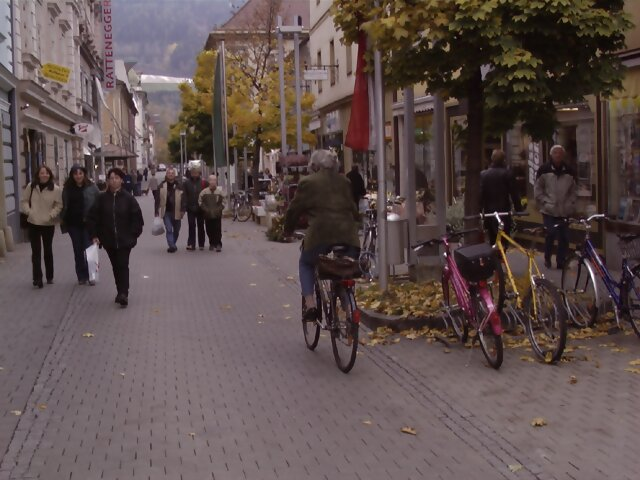person: (285, 144, 372, 326), (91, 167, 152, 303), (61, 162, 104, 288), (22, 162, 62, 289)
